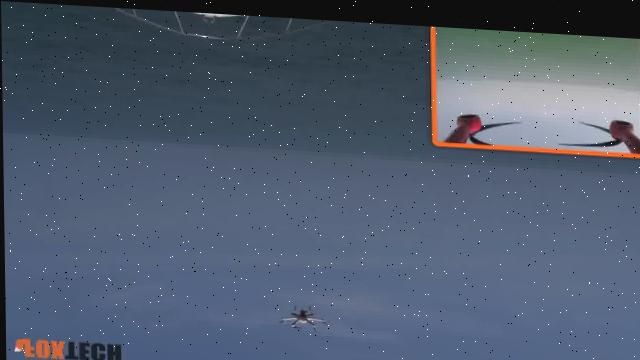drone: (266, 295, 329, 329)
